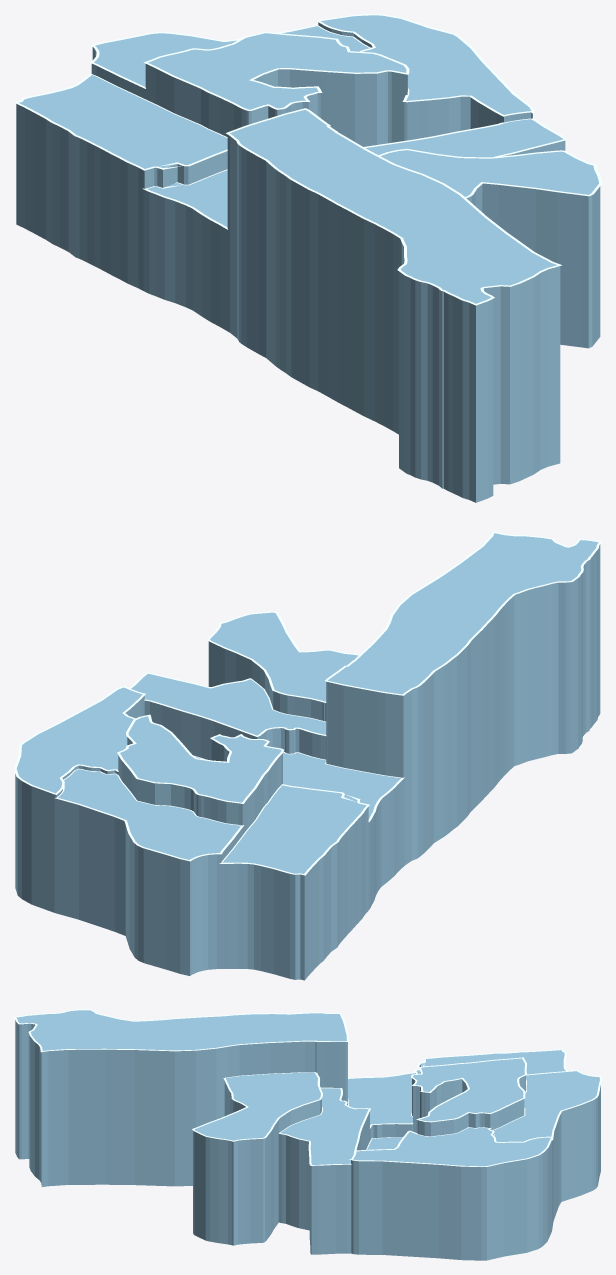
Rendered from Dehiwala_Population_Selectable.glb.
3 renders of one model, top to bottom at view 1: azimuth 30°, elevation 25°; view 2: azimuth 150°, elevation 25°; view 3: azimuth 270°, elevation 25°, orthographic. The views are drawn at different scales.
Visible parts, largest first — view 1: Dehiwala selectable population model_dc6392, Dehiwala selectable population model_688a4a, Dehiwala selectable population model_edf5b3, Dehiwala selectable population model_ba3702, Dehiwala selectable population model_b95ab1, Dehiwala selectable population model_dca9e9, Dehiwala selectable population model_d91d90, Dehiwala selectable population model_4926ab, Outline::Dehiwala East, Outline::Mount Lavinia, Outline::Dehiwala West, Outline::Karagampitiya (+2 smaller); view 2: Dehiwala selectable population model_dc6392, Dehiwala selectable population model_d91d90, Dehiwala selectable population model_688a4a, Dehiwala selectable population model_b95ab1, Dehiwala selectable population model_edf5b3, Dehiwala selectable population model_4926ab, Dehiwala selectable population model_ba3702, Dehiwala selectable population model_dca9e9, Outline::Dehiwala East, Outline::Mount Lavinia, Outline::Kawdana West, Outline::Dehiwala West (+3 smaller); view 3: Dehiwala selectable population model_dc6392, Dehiwala selectable population model_b95ab1, Dehiwala selectable population model_ba3702, Dehiwala selectable population model_4926ab, Dehiwala selectable population model_d91d90, Dehiwala selectable population model_edf5b3, Dehiwala selectable population model_dca9e9, Dehiwala selectable population model_688a4a, Outline::Dehiwala East, Outline::Mount Lavinia, Outline::Dehiwala West, Outline::Udyanaya (+3 smaller).
Part boxes in pixels (x1,y1,x2,y2): Dehiwala selectable population model_dc6392: [227, 110, 560, 502]; Dehiwala selectable population model_688a4a: [16, 75, 227, 291]; Dehiwala selectable population model_edf5b3: [145, 33, 407, 146]; Dehiwala selectable population model_ba3702: [381, 150, 600, 348]; Dehiwala selectable population model_b95ab1: [318, 15, 532, 140]; Dehiwala selectable population model_dca9e9: [144, 170, 227, 331]; Dehiwala selectable population model_d91d90: [91, 26, 369, 99]; Dehiwala selectable population model_4926ab: [365, 119, 565, 157]; Outline::Dehiwala East: [226, 108, 561, 305]; Outline::Mount Lavinia: [143, 32, 409, 110]; Outline::Dehiwala West: [316, 14, 534, 116]; Outline::Karagampitiya: [14, 73, 227, 170]; Dehiwala selectable population model_dc6392: [326, 533, 600, 866]; Dehiwala selectable population model_d91d90: [56, 769, 242, 975]; Dehiwala selectable population model_688a4a: [221, 785, 368, 980]; Dehiwala selectable population model_b95ab1: [15, 687, 144, 913]; Dehiwala selectable population model_edf5b3: [118, 716, 282, 834]; Dehiwala selectable population model_4926ab: [131, 673, 326, 760]; Dehiwala selectable population model_ba3702: [208, 612, 358, 721]; Dehiwala selectable population model_dca9e9: [283, 752, 403, 909]; Outline::Dehiwala East: [325, 531, 601, 695]; Outline::Mount Lavinia: [117, 714, 283, 803]; Outline::Kawdana West: [55, 768, 243, 861]; Outline::Dehiwala West: [14, 686, 145, 794]; Dehiwala selectable population model_dc6392: [15, 1010, 347, 1186]; Dehiwala selectable population model_b95ab1: [351, 1127, 551, 1260]; Dehiwala selectable population model_ba3702: [193, 1072, 321, 1245]; Dehiwala selectable population model_4926ab: [278, 1088, 369, 1254]; Dehiwala selectable population model_d91d90: [493, 1071, 600, 1229]; Dehiwala selectable population model_edf5b3: [412, 1058, 525, 1136]; Dehiwala selectable population model_dca9e9: [348, 1073, 415, 1140]; Dehiwala selectable population model_688a4a: [415, 1050, 565, 1074]; Outline::Dehiwala East: [14, 1009, 348, 1052]; Outline::Mount Lavinia: [411, 1057, 526, 1122]; Outline::Dehiwala West: [349, 1127, 552, 1167]; Outline::Udyanaya: [192, 1072, 322, 1141].
Size of the model in its own units: 2056 by 1008 by 3964.
